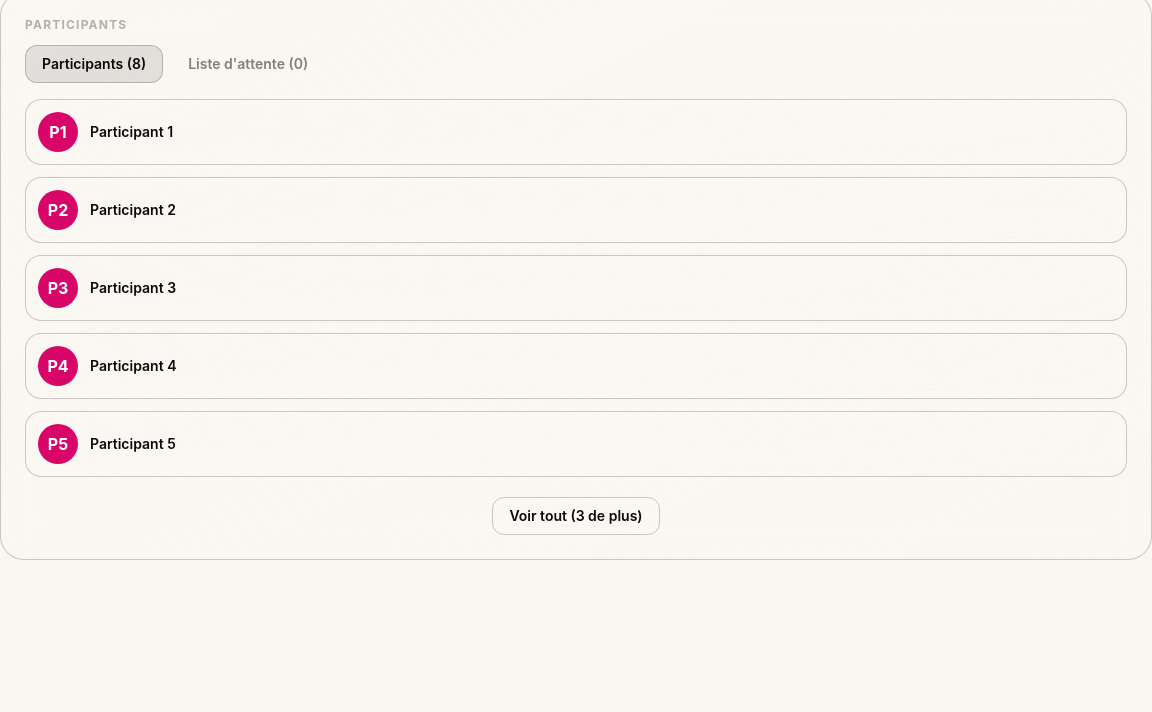
Test case: AttendeesList › authenticated view › reveals the rest of the list when "Voir tout" is clicked, and shows a "Réduire" button
What coordinates should you click on to do the following:
click the button "Voir tout (3 de plus)"
I would click on:
 (576, 516)
Its box is [492,497,660,535].
(page scrolled)
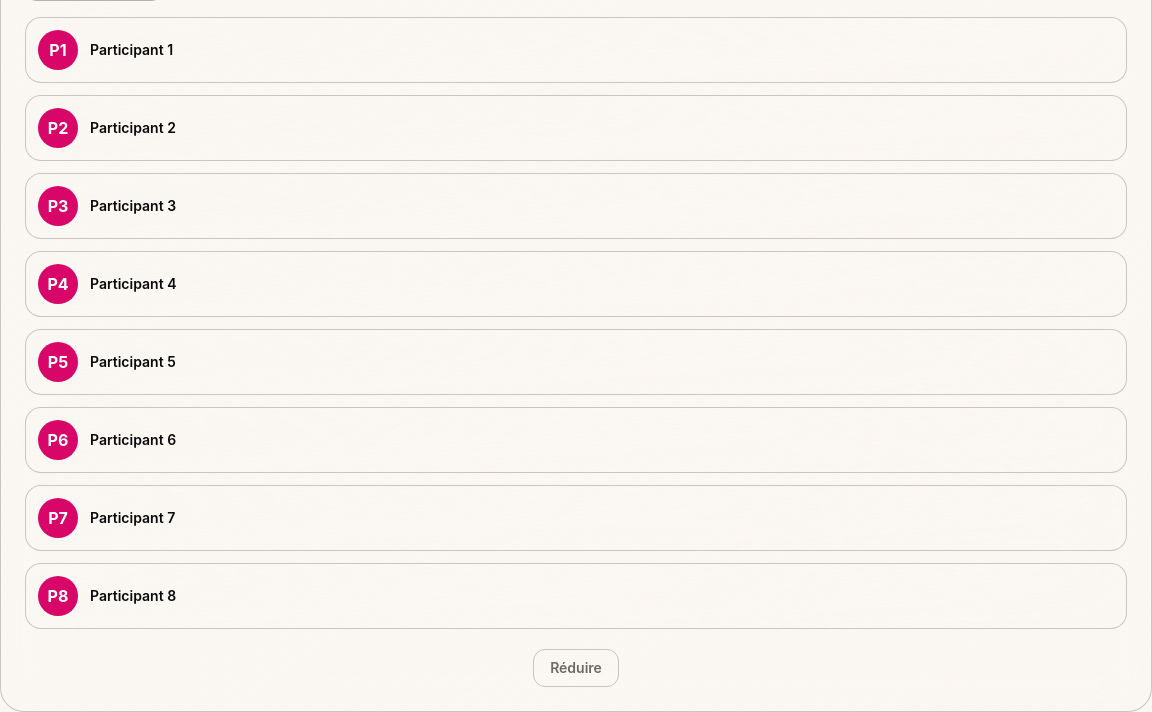
expect the text "Participant 6" is shown: met, box [90,431,176,448]
expect the text "Participant 8" is shown: met, box [90,587,176,604]
expect the button "Voir tout" is gone: met
